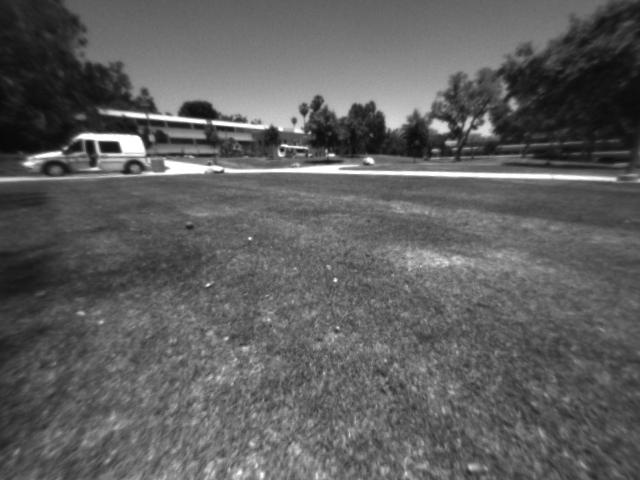dogtoy: (180, 213, 204, 235)
